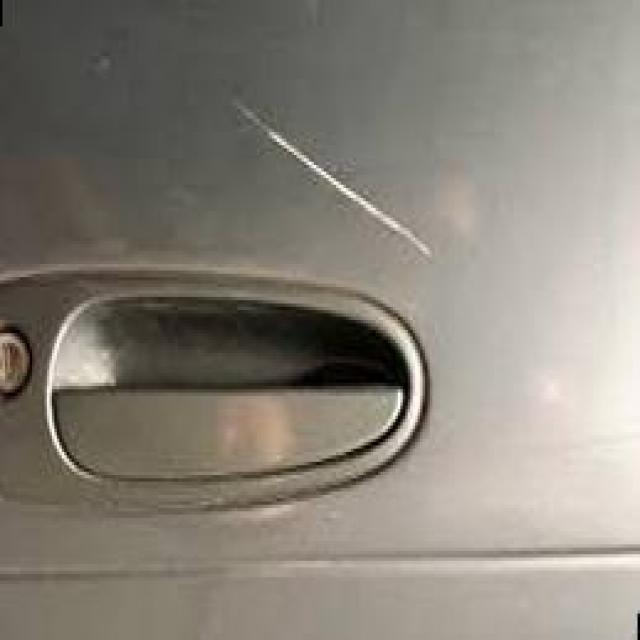scratch: (222, 79, 462, 287)
